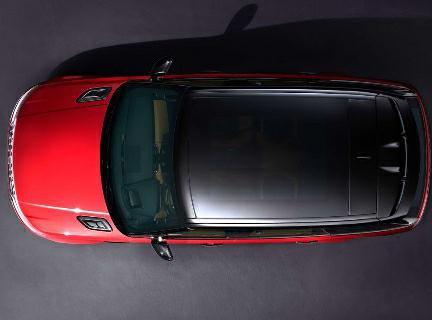路虎-揽胜运动版: (10, 63, 432, 261)
